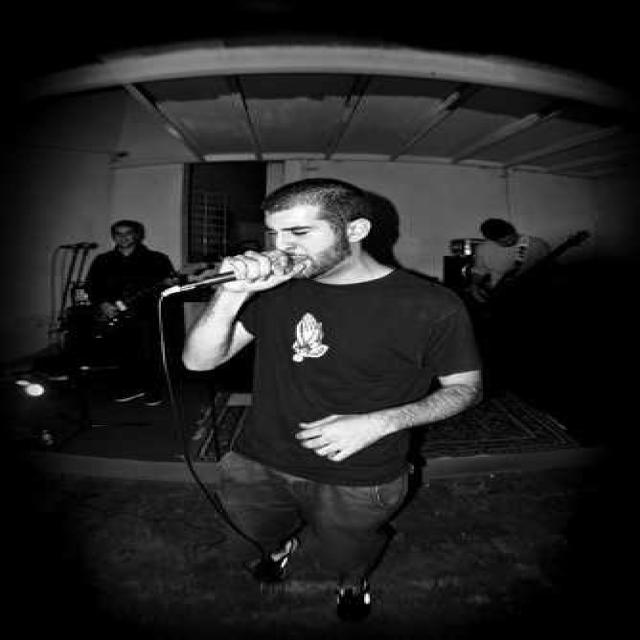microphone: (160, 251, 304, 297), (638, 21, 640, 22)
